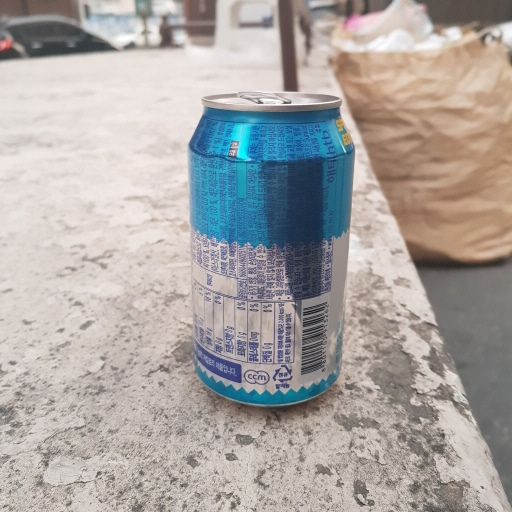Metal_0: (183, 89, 357, 405)
